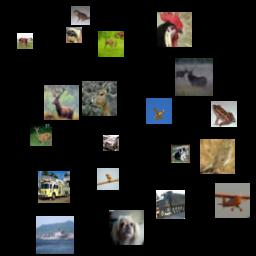airplane: (215, 183, 250, 218), (146, 98, 172, 124)
automobile: (103, 135, 119, 151)
bird: (200, 139, 235, 174), (157, 12, 192, 47), (97, 168, 119, 190)
cat: (71, 6, 90, 25)
deer: (175, 58, 213, 96), (44, 85, 79, 120), (82, 81, 117, 116), (98, 31, 124, 57), (30, 124, 52, 146)
dog: (109, 210, 144, 245), (171, 144, 190, 163), (66, 27, 82, 43)
frog: (211, 101, 237, 127)
ship: (36, 216, 74, 254)
truck: (38, 171, 70, 203), (156, 190, 185, 219)
